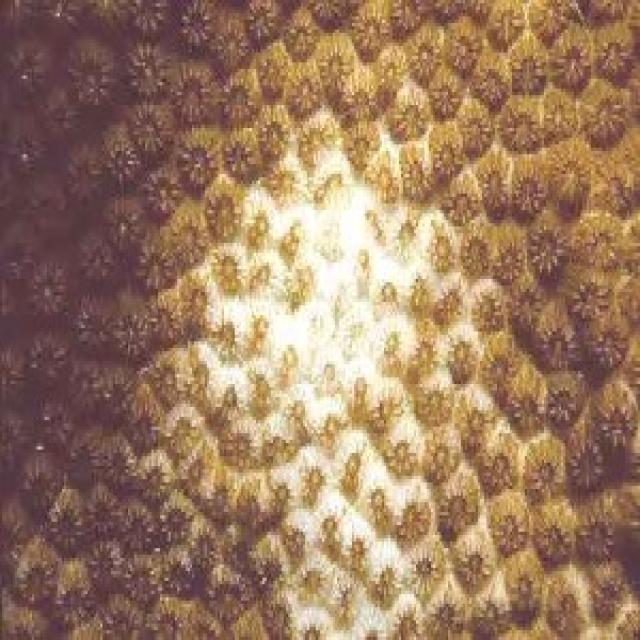Bleached: (197, 152, 451, 638)
